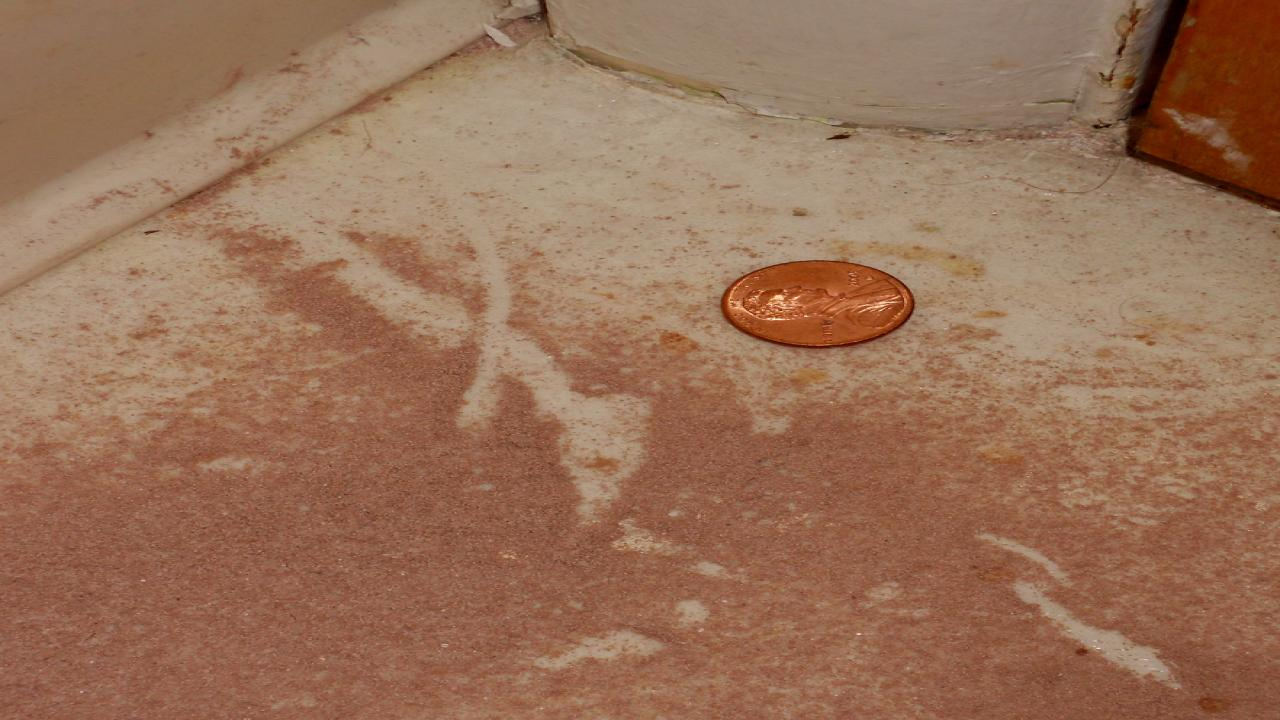coin: (724, 260, 914, 350)
